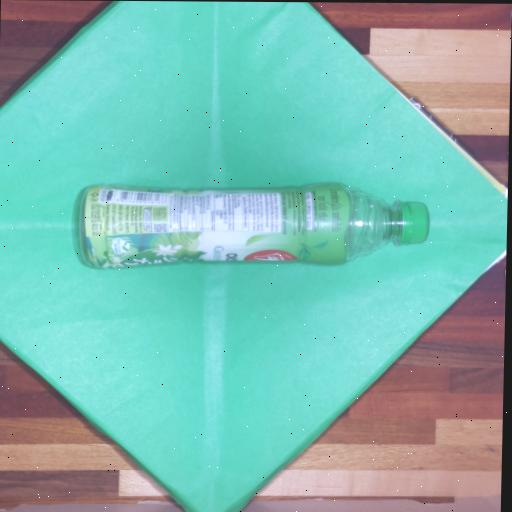bottle: (80, 183, 427, 267)
